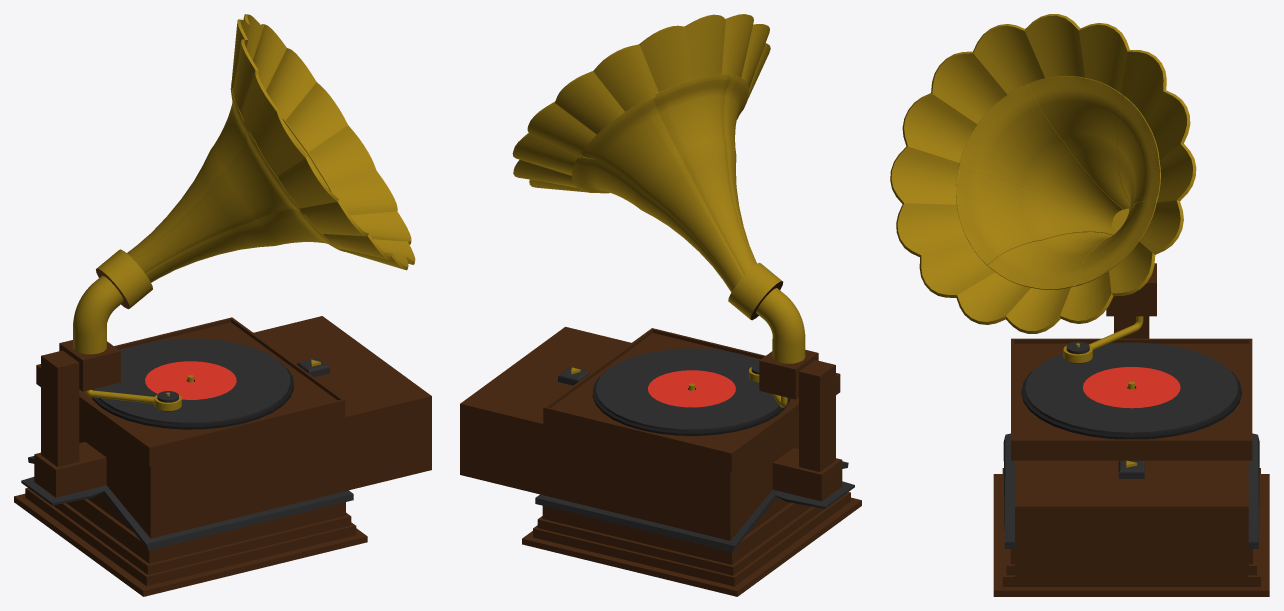
Rendered from Patephone.fbx.
The picture shows the model from 3 angles, left to right: view 1: azimuth 30°, elevation 25°; view 2: azimuth 150°, elevation 25°; view 3: azimuth 270°, elevation 25°; orthographic projection. The views are drawn at different scales.
Visible parts, largest first — view 1: Cube, Circle, Cube.001, Circle.001, Circle.002, Cylinder.001; view 2: Cube, Circle, Cube.001, Circle.001, Circle.002; view 3: Circle, Cube.001, Cube, Circle.001, Circle.002, Cylinder.001, Cube.002.
Part boxes in pixels (x1,y1,x2,y2): Cube: (14, 249, 367, 596); Circle: (127, 14, 415, 282); Cube.001: (253, 316, 431, 492); Circle.001: (92, 338, 290, 424); Circle.002: (91, 362, 293, 429); Cylinder.001: (85, 389, 181, 411); Cube: (522, 262, 861, 596); Circle: (512, 14, 770, 292); Cube.001: (460, 326, 631, 496); Circle.001: (596, 348, 779, 431); Circle.002: (592, 371, 790, 435); Circle: (890, 14, 1196, 333); Cube.001: (1015, 460, 1248, 585); Cube: (993, 208, 1269, 596); Circle.001: (1025, 342, 1238, 434); Circle.002: (1021, 371, 1241, 439); Cylinder.001: (1063, 316, 1143, 363); Cube.002: (1118, 460, 1144, 478).
Bounding box in the file's own units: 346 × 485 × 313.
